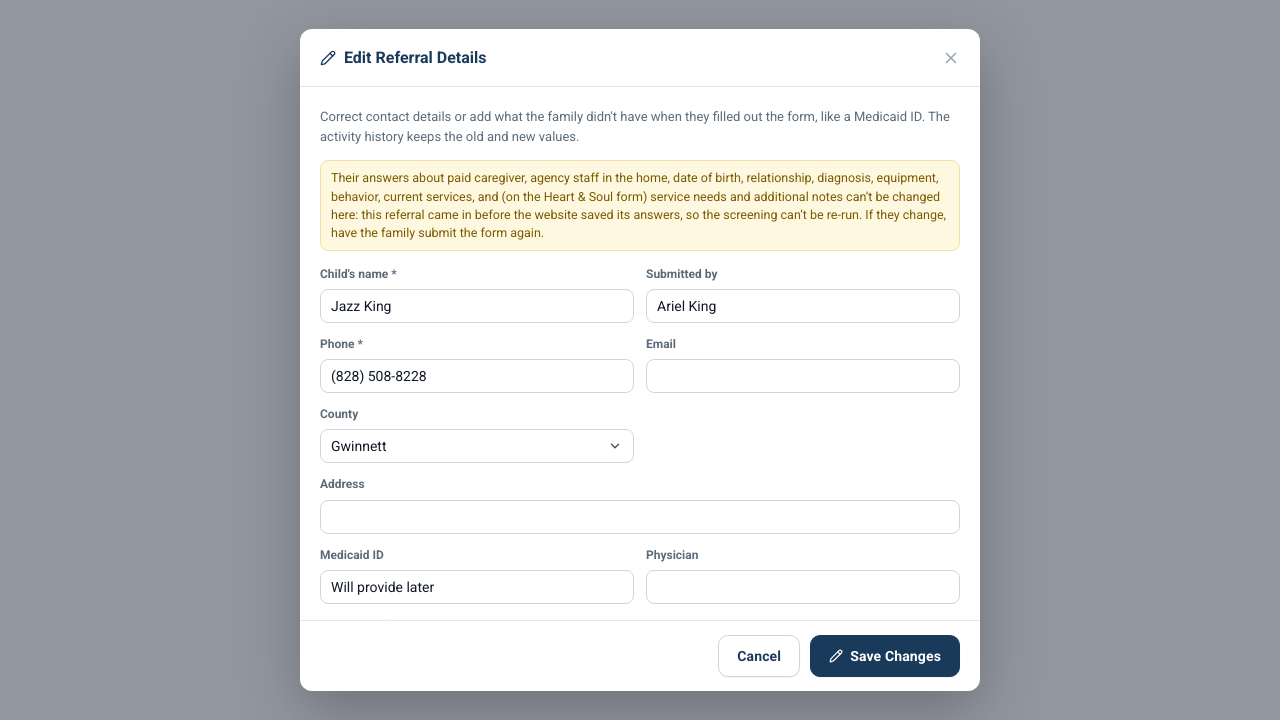
formats phones as typed and blocks clearing a required field
Clear the field labelled "Phone *". click: coordinates (477, 376)
box: [320,359,634,393]
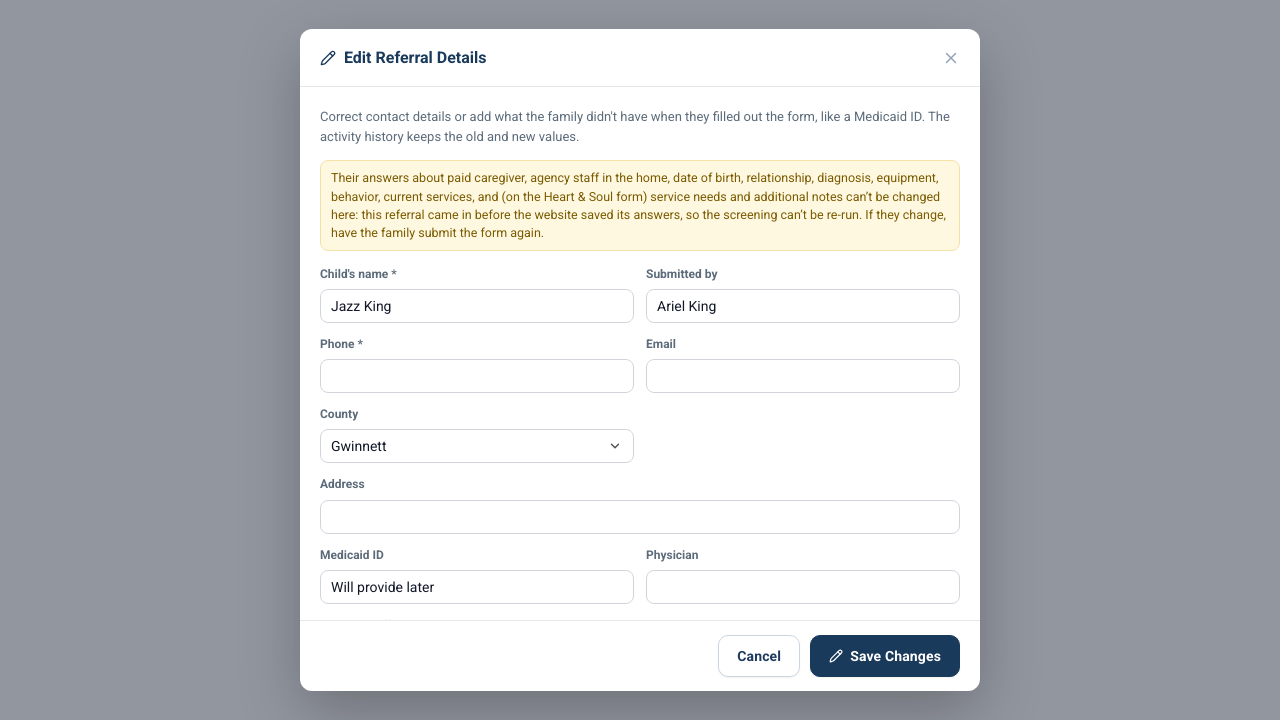
Click the button "Save Changes". click: coordinates (885, 656)
box: [810,635,960,677]
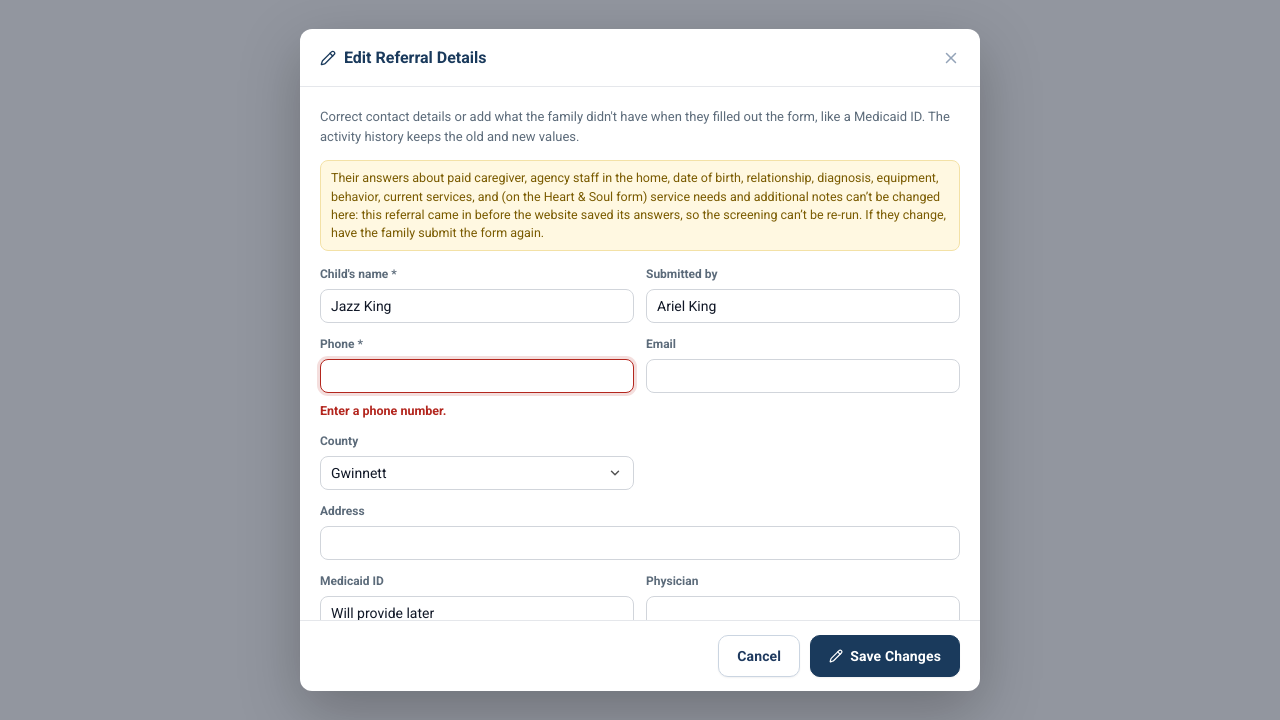
Check: the text "Enter a phone number." is shown, box [320,403,446,418]
Type "4045551212" into the field labelled "Phone * Enter a phone number.". click: coordinates (477, 376)
box: [320,359,634,393]
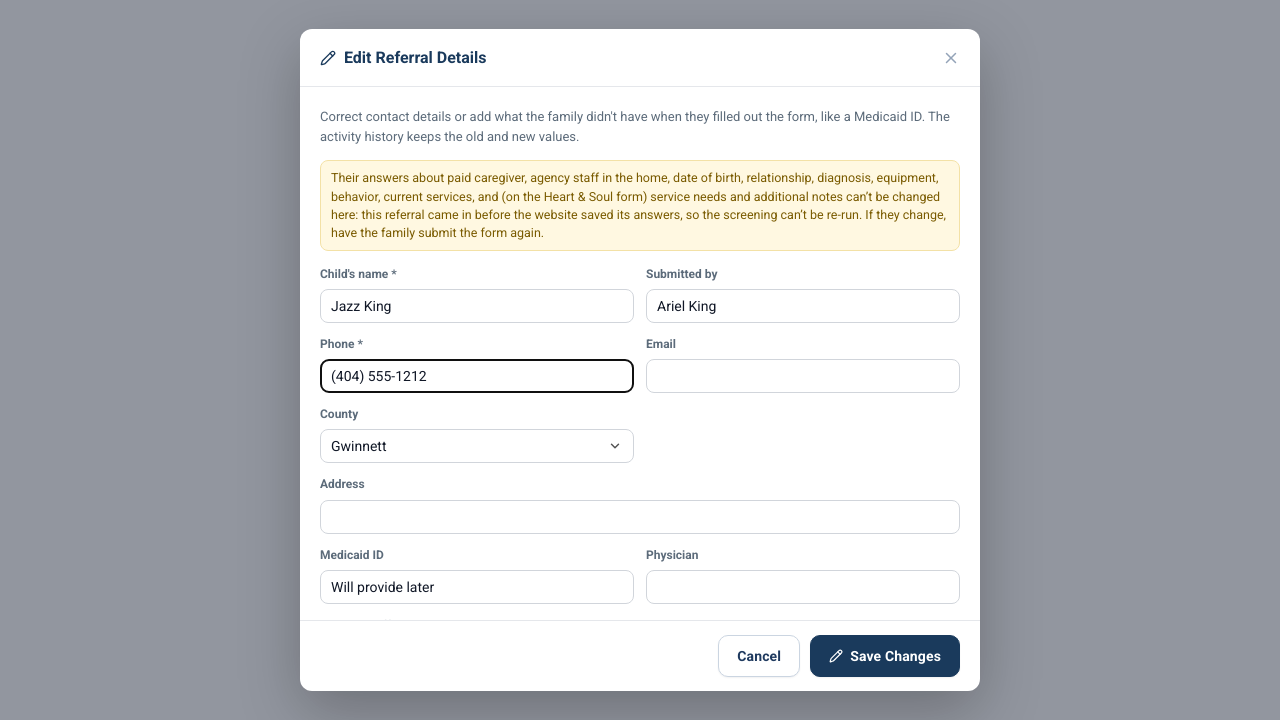
Check: the field labelled "Phone *" holds "(404) 555-1212", box [320,359,634,393]
